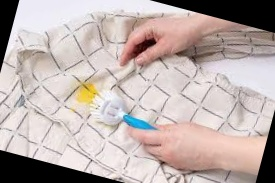mustard: (77, 81, 99, 105)
